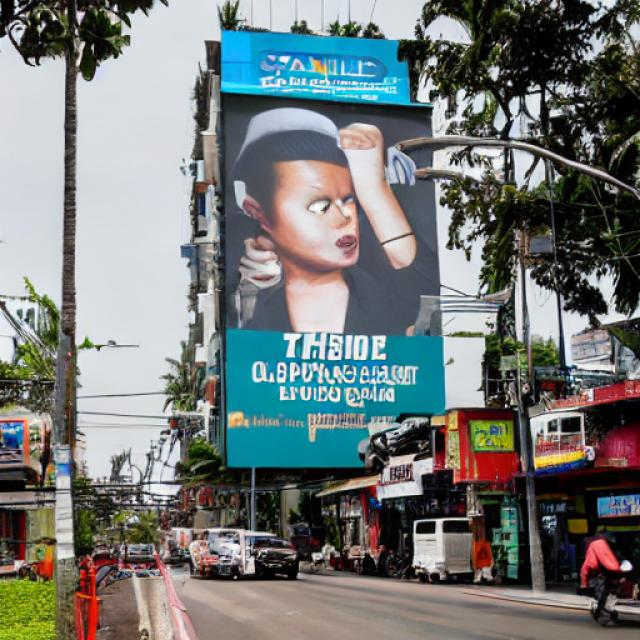Billboard: (217, 23, 449, 482)
